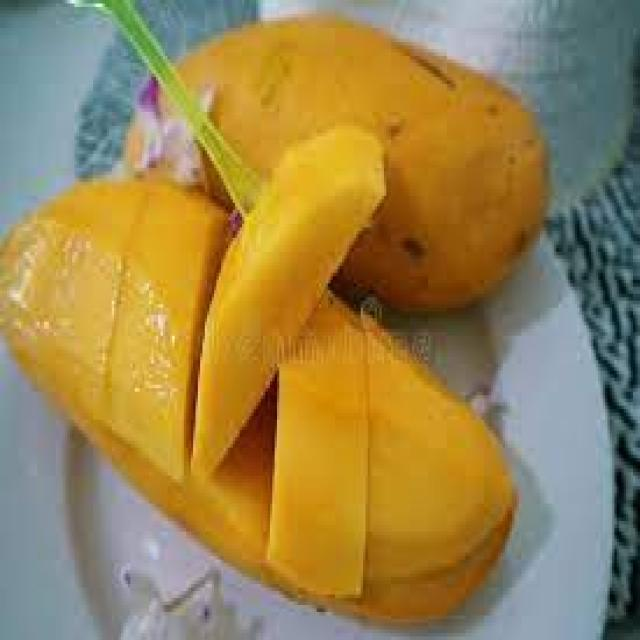mango: (0, 157, 519, 626), (193, 126, 389, 479)
